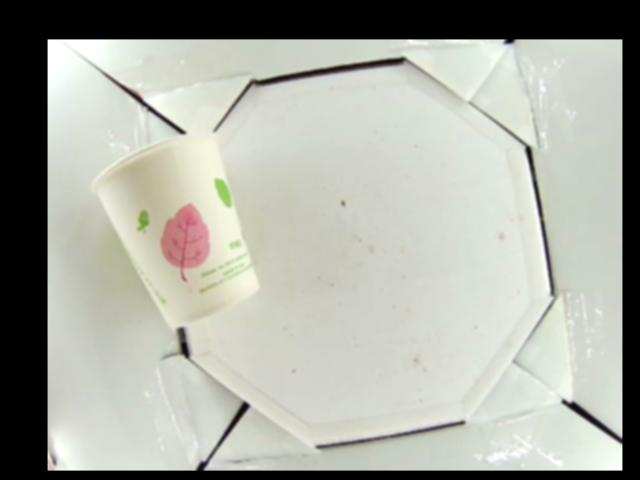Cup: (88, 131, 258, 329)
